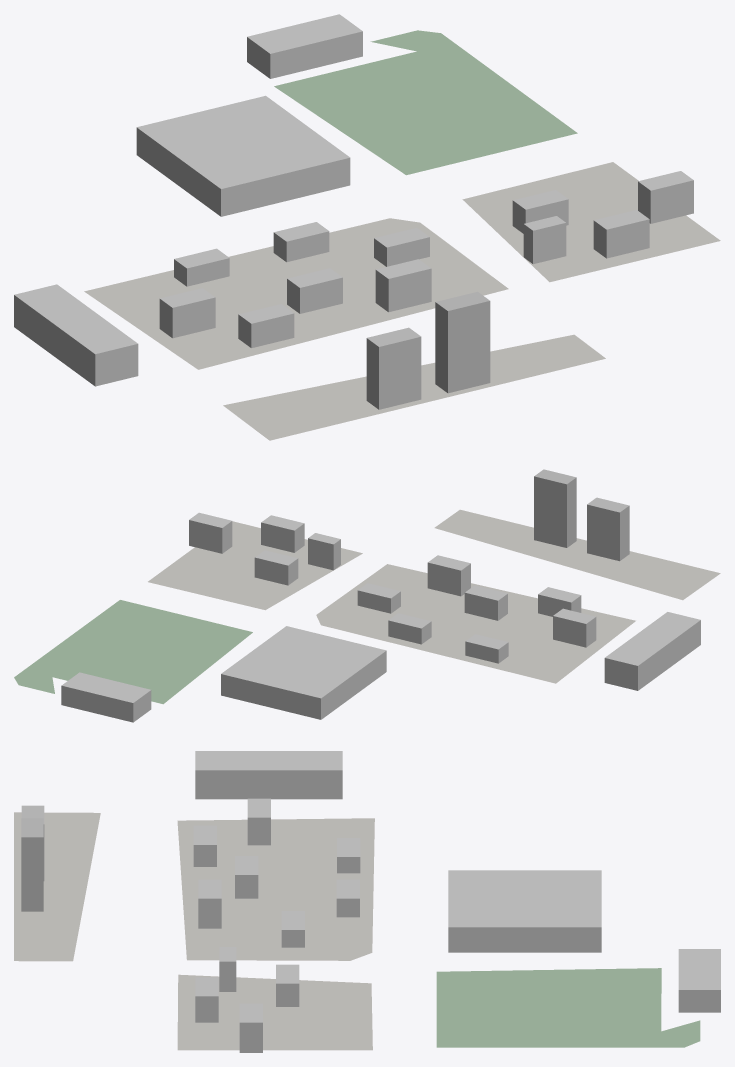
Rendered from 126_74_mid.glb.
3 views of the same model, one above another, from view 1: azimuth 30°, elevation 25°; view 2: azimuth 150°, elevation 25°; view 3: azimuth 270°, elevation 25° (orthographic). The views are drawn at different scales.
Size of the model in its own units: 475 by 60.54 by 515.
